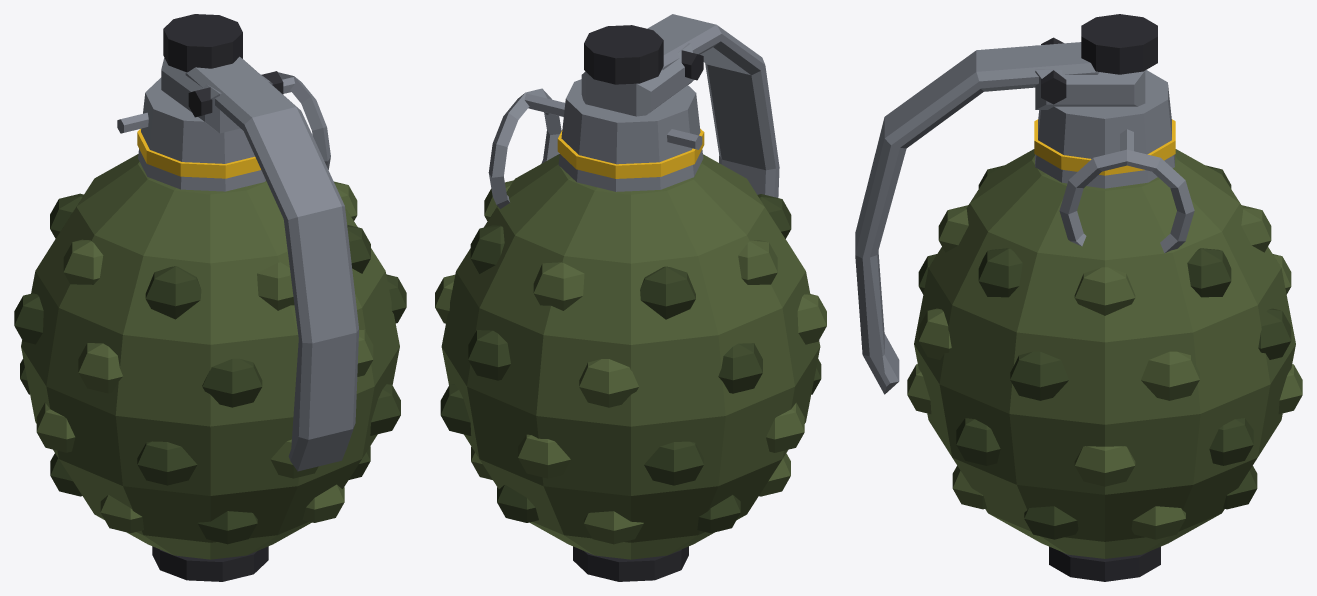
Rendered from grenade.glb.
3 renders of one model, left to right at view 1: azimuth 30°, elevation 25°; view 2: azimuth 150°, elevation 25°; view 3: azimuth 270°, elevation 25°, orthographic.
Parts seen in each view (by area): view 1: body, spoon, ring, pin; view 2: body, spoon, ring, pin; view 3: body, spoon, ring.
Boxes of the visible parts, x1,y1,x2,y2 form: body: (14,14,406,581); spoon: (185,56,358,471); ring: (278,72,330,169); pin: (117,77,294,133); body: (435,25,826,581); spoon: (647,14,779,197); ring: (488,88,561,208); pin: (524,93,702,149); body: (907,14,1302,581); spoon: (855,42,1099,394); ring: (1059,149,1194,253).
Size of the model in its own units: 0.1102 by 0.158 by 0.1218.
